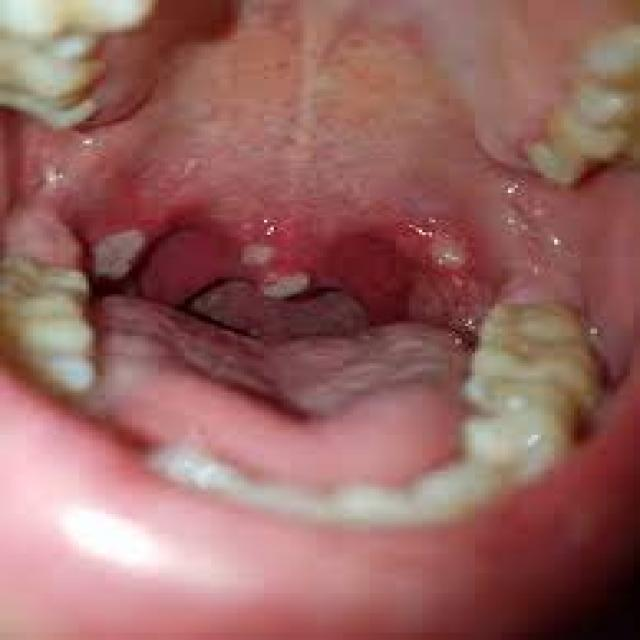processing_area: (0, 0, 637, 459)
ulcer-detection: (76, 196, 171, 315), (220, 218, 331, 314), (412, 222, 485, 278)
